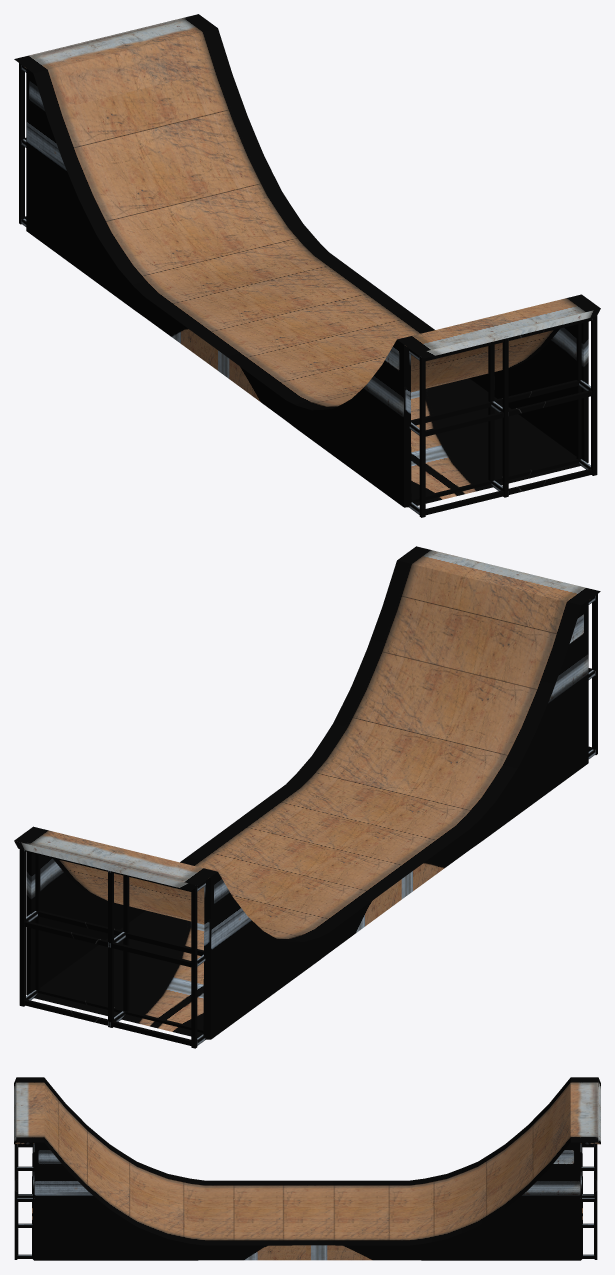
Rendered from Ramp04.fbx.
3 renders of one model, top to bottom at view 1: azimuth 30°, elevation 25°; view 2: azimuth 150°, elevation 25°; view 3: azimuth 270°, elevation 25°, orthographic. The views are drawn at different scales.
Parts seen in each view (by area): view 1: Ramp04; view 2: Ramp04; view 3: Ramp04.
Boxes of the visible parts, x1,y1,x2,y2 form: Ramp04: (14, 14, 600, 517); Ramp04: (14, 546, 600, 1048); Ramp04: (14, 1077, 600, 1260).
Size of the model in its own units: 3.95 by 3.36 by 15.02.
